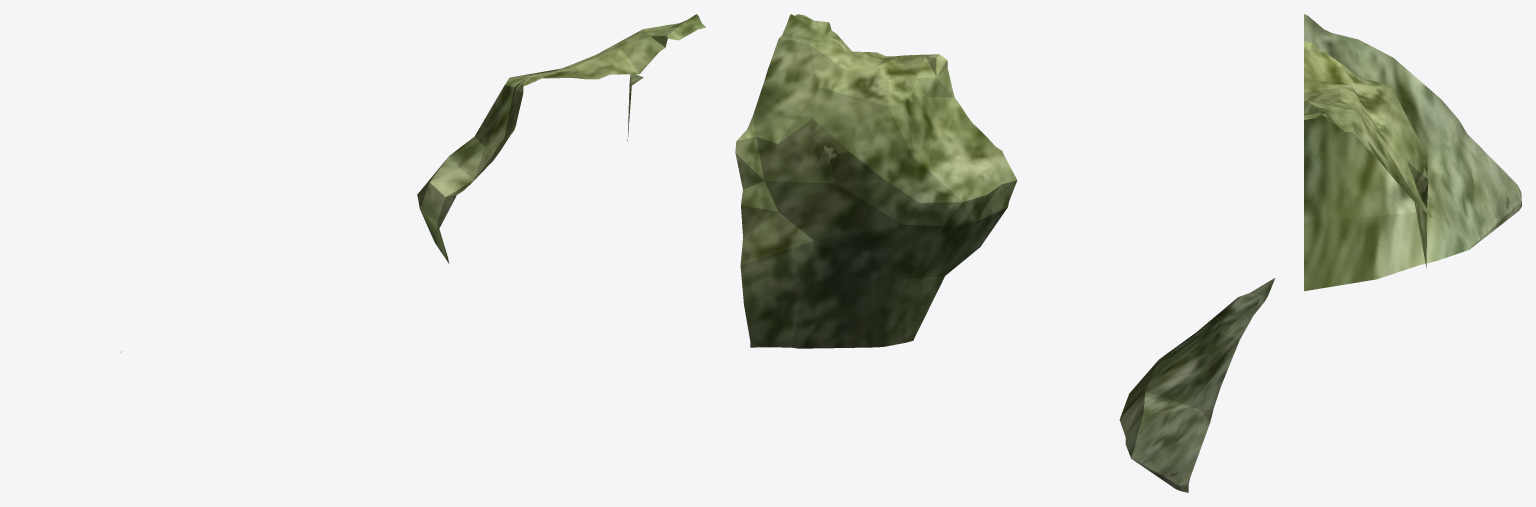
3 views of the same model, side by side, from view 1: azimuth 30°, elevation 25°; view 2: azimuth 150°, elevation 25°; view 3: azimuth 270°, elevation 25° (orthographic). The views are drawn at different scales.
Size of the model in its own units: 2.95 by 1.79 by 0.9328.
1 material, 1 textured.
